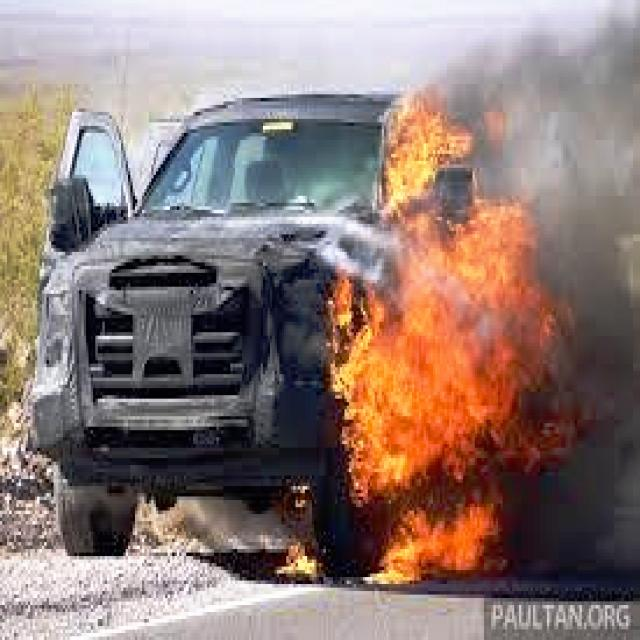api: (336, 89, 583, 603)
